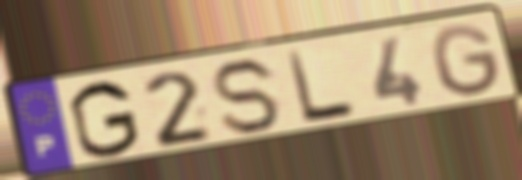2: (141, 69, 218, 152)
4: (370, 34, 427, 110)
G: (66, 79, 143, 162), (428, 22, 506, 100)
L: (283, 48, 360, 127)
S: (210, 56, 286, 139)
